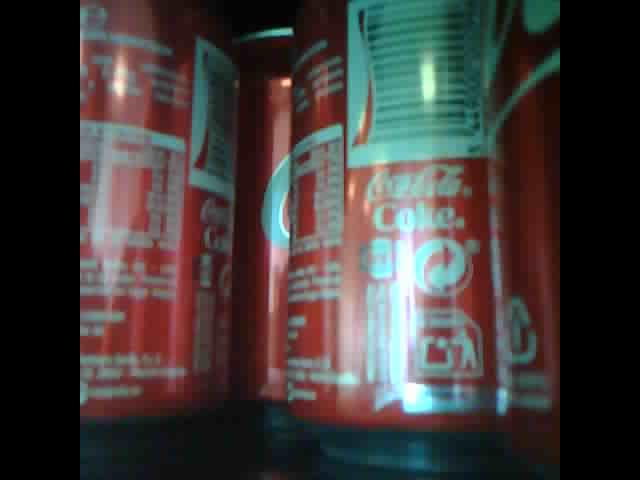coca cola: (287, 6, 559, 437), (81, 2, 246, 427), (238, 22, 288, 415)
